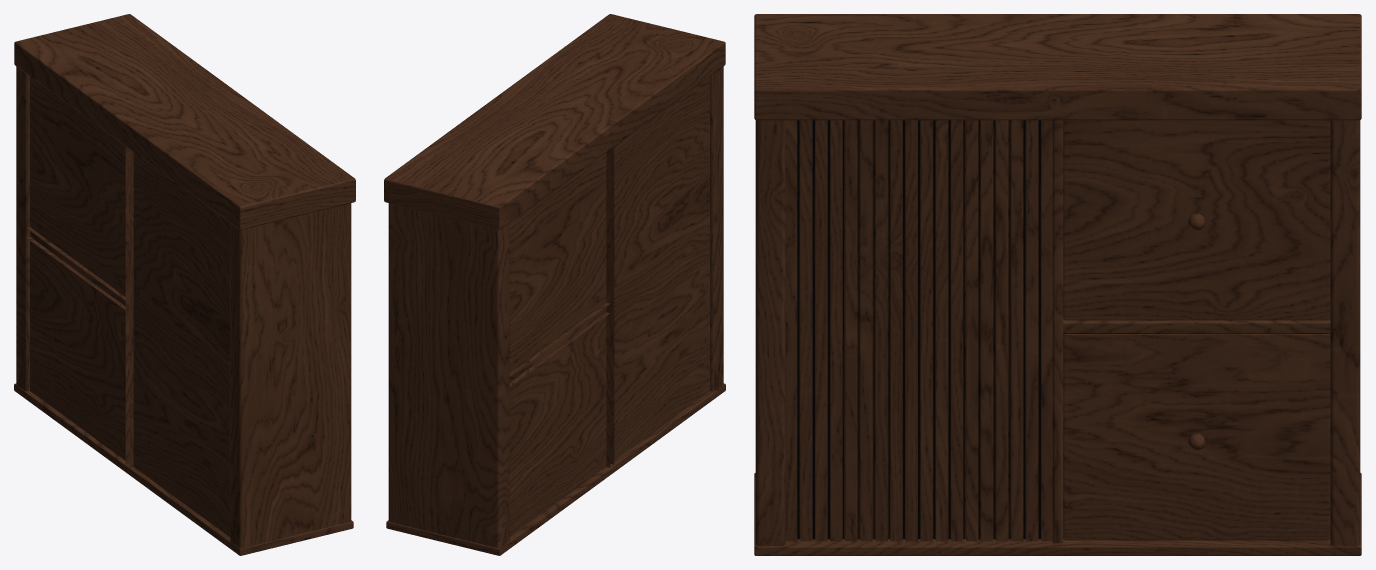
Rendered from EscritorioPatron_v1.glb.
3 views of the same model, side by side, from view 1: azimuth 30°, elevation 25°; view 2: azimuth 150°, elevation 25°; view 3: azimuth 270°, elevation 25° (orthographic). The views are drawn at different scales.
Parts seen in each view (by area): view 1: EscritorioPatron_v1_GEO; view 2: EscritorioPatron_v1_GEO; view 3: EscritorioPatron_v1_GEO.
Part boxes in pixels (bbox=[...]): EscritorioPatron_v1_GEO: bbox=[14, 14, 355, 555]; EscritorioPatron_v1_GEO: bbox=[384, 14, 725, 555]; EscritorioPatron_v1_GEO: bbox=[754, 14, 1361, 555].
Bounding box in the file's own units: 0.2064 × 0.5849 × 0.6868.
Materials: 1 (1 with a texture image).
